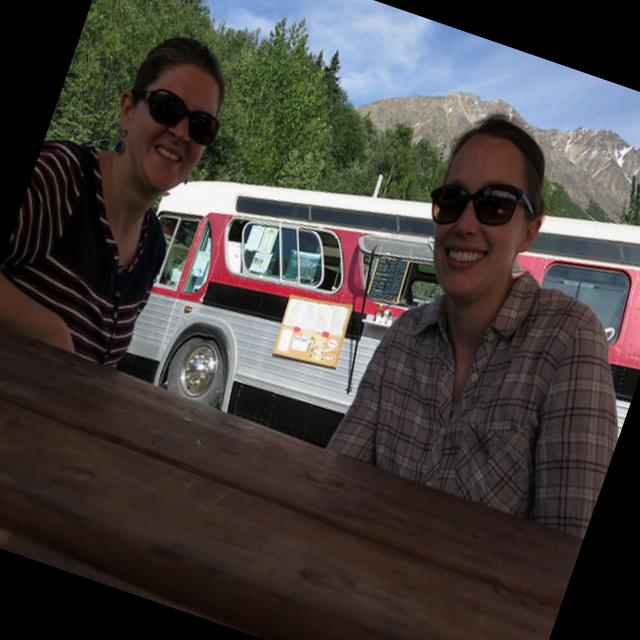Vehicle: (101, 56, 640, 537)
